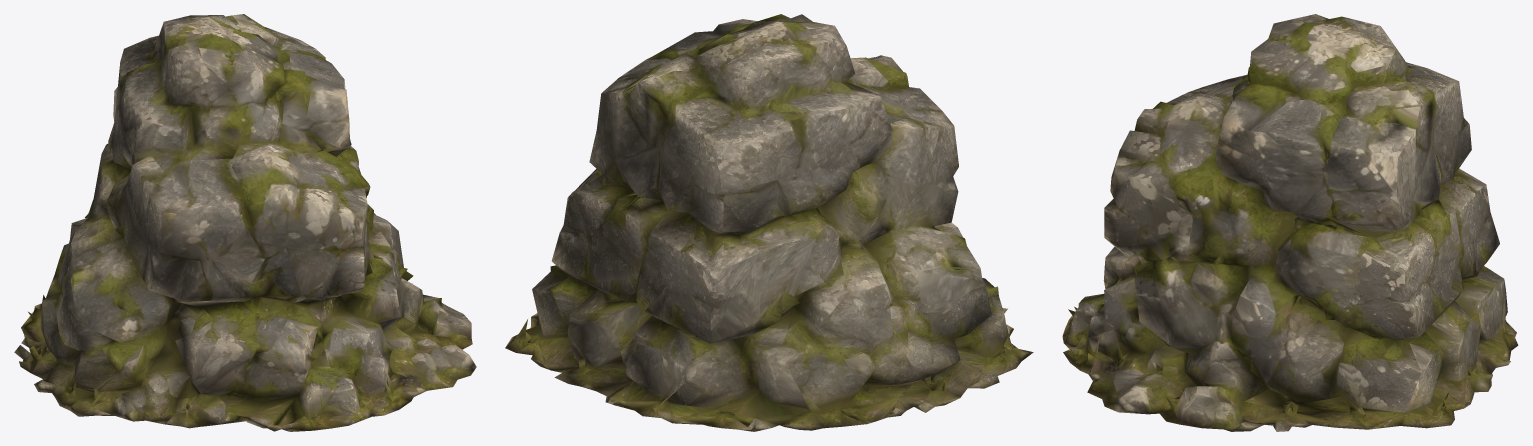
The model's file is land_standing_stone_far.obj.
The picture shows the model from 3 angles, left to right: view 1: azimuth 30°, elevation 25°; view 2: azimuth 150°, elevation 25°; view 3: azimuth 270°, elevation 25°; orthographic projection. The views are drawn at different scales.
Visible parts, largest first — view 1: land_standing_stone_far; view 2: land_standing_stone_far; view 3: land_standing_stone_far.
Boxes of the visible parts, left/top/right/bottom form: land_standing_stone_far: left=14, top=14, right=476, bottom=431; land_standing_stone_far: left=505, top=14, right=1033, bottom=431; land_standing_stone_far: left=1062, top=14, right=1518, bottom=431.
Bounding box in the file's own units: 7.52 × 5.49 × 7.42.
1 material, 1 textured.
